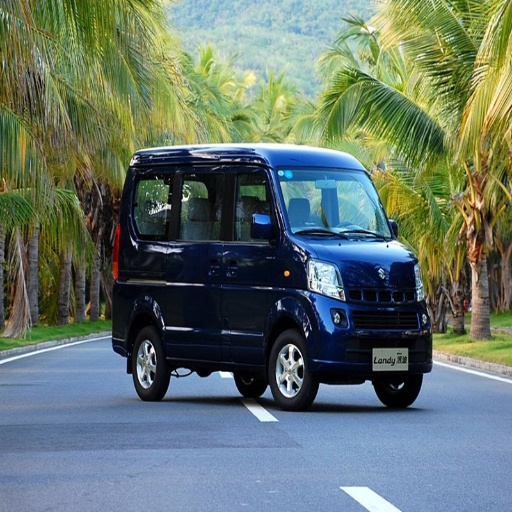front_bumper: (309, 263, 432, 382)
front_right_door: (208, 160, 280, 356)
